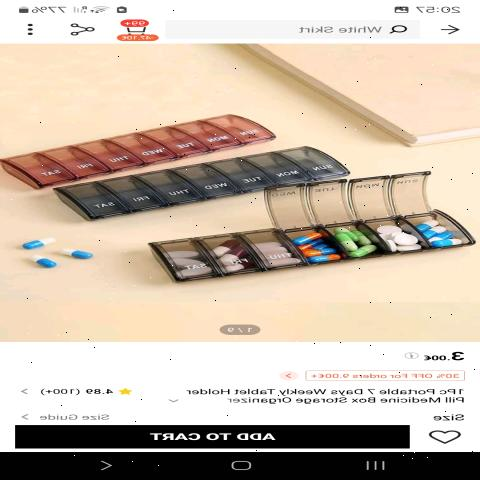PillBox: (38, 140, 360, 230)
